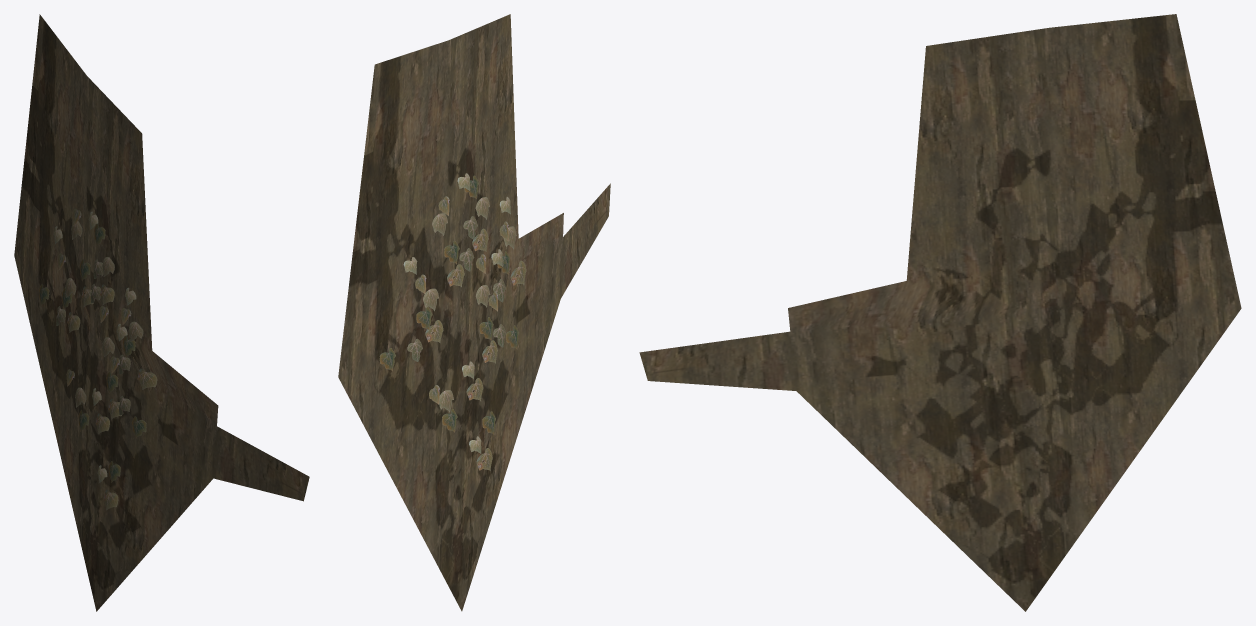
File: SM_Ivy_5.fbx
The picture shows the model from 3 angles, left to right: view 1: azimuth 30°, elevation 25°; view 2: azimuth 150°, elevation 25°; view 3: azimuth 270°, elevation 25°; orthographic projection. The views are drawn at different scales.
Parts seen in each view (by area): view 1: SM_Ivy_5_LOD0; view 2: SM_Ivy_5_LOD0; view 3: SM_Ivy_5_LOD0.
Boxes of the visible parts, <box> form: SM_Ivy_5_LOD0: <box>14,14,309,611</box>; SM_Ivy_5_LOD0: <box>338,14,610,611</box>; SM_Ivy_5_LOD0: <box>639,14,1241,611</box>.
Bounding box in the file's own units: 24.87 × 245 × 271.
